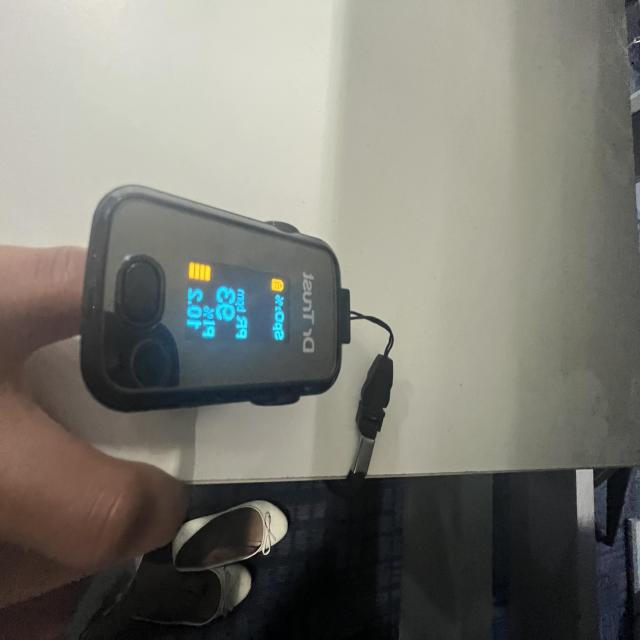spo2: (79, 185, 349, 415)
